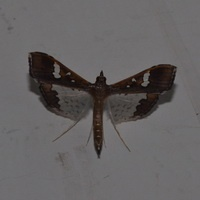insect: (28, 52, 176, 157)
